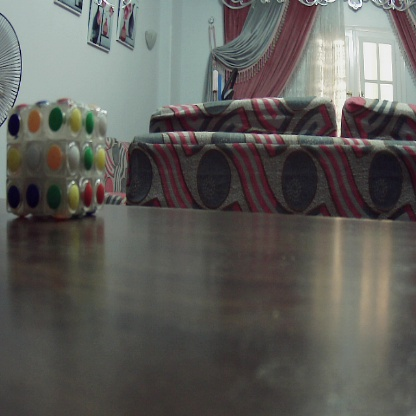Rubix Cube: (5, 96, 106, 217)
